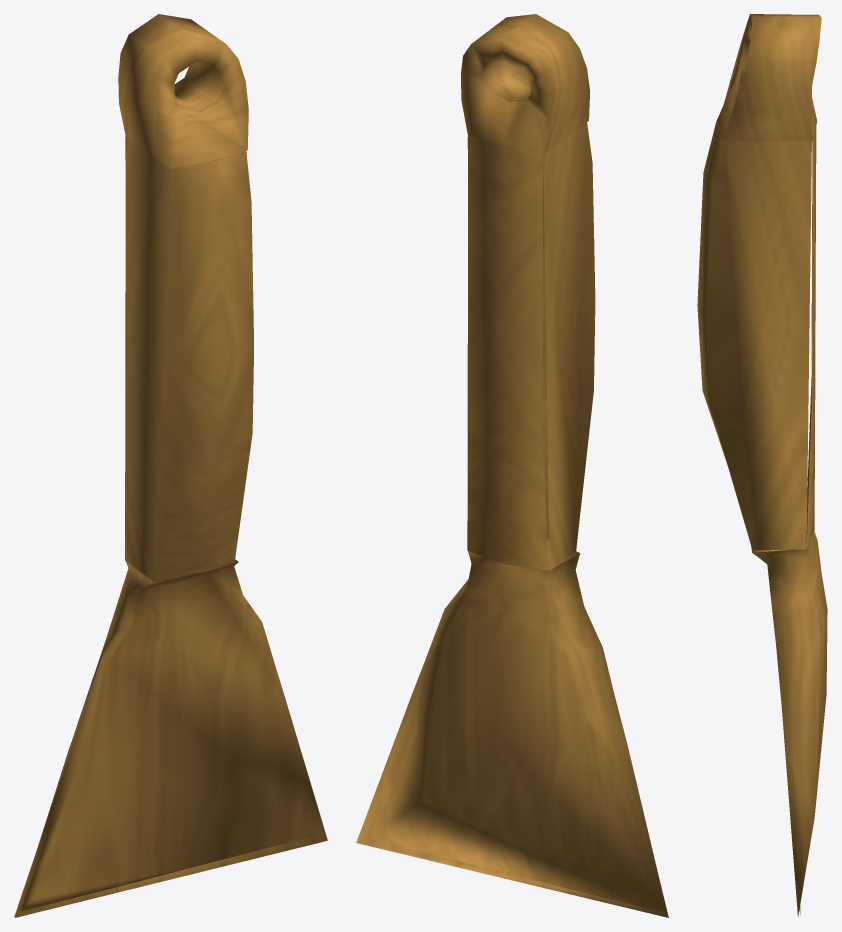
3 views of the same model, side by side, from view 1: azimuth 30°, elevation 25°; view 2: azimuth 150°, elevation 25°; view 3: azimuth 270°, elevation 25° (orthographic). The views are drawn at different scales.
Visible parts, largest first — view 1: ustensils1_0; view 2: ustensils1_0; view 3: ustensils1_0.
Part boxes in pixels (<box>): ustensils1_0: <box>14,14,327,917</box>; ustensils1_0: <box>356,14,668,917</box>; ustensils1_0: <box>697,14,827,916</box>.
Bounding box in the file's own units: 0.0571 × 0.1489 × 0.0212.
Materials: 1 (1 with a texture image).
